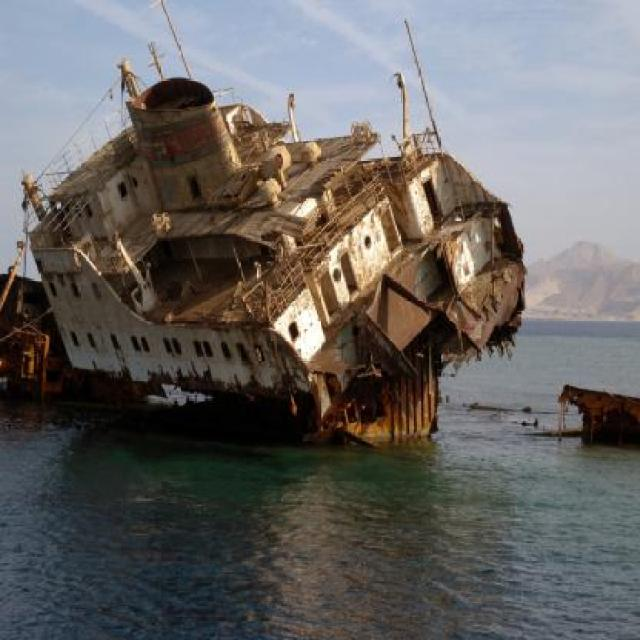corrosion: (1, 55, 528, 450)
